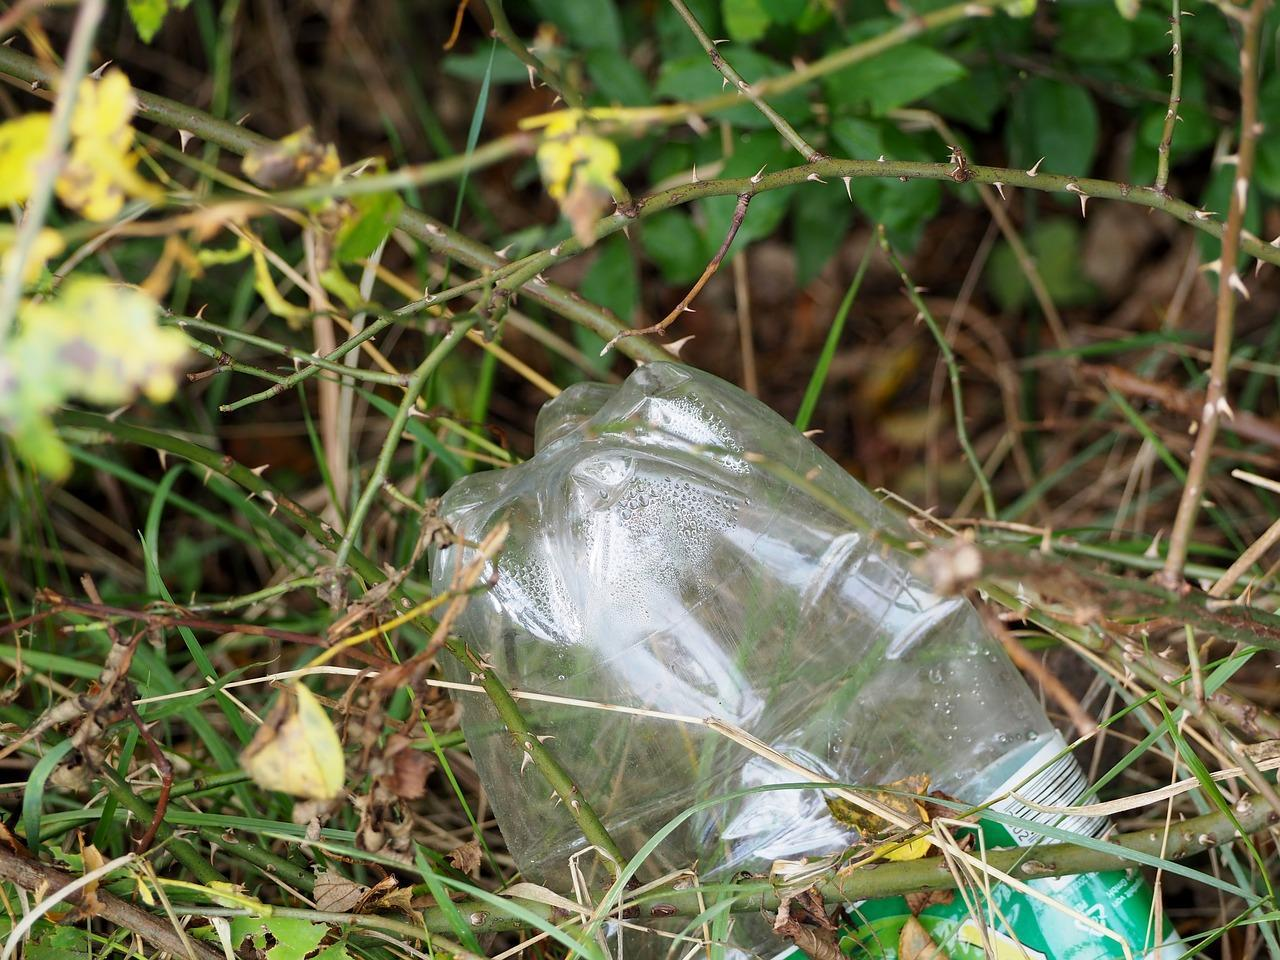bottle: (396, 300, 1125, 960)
